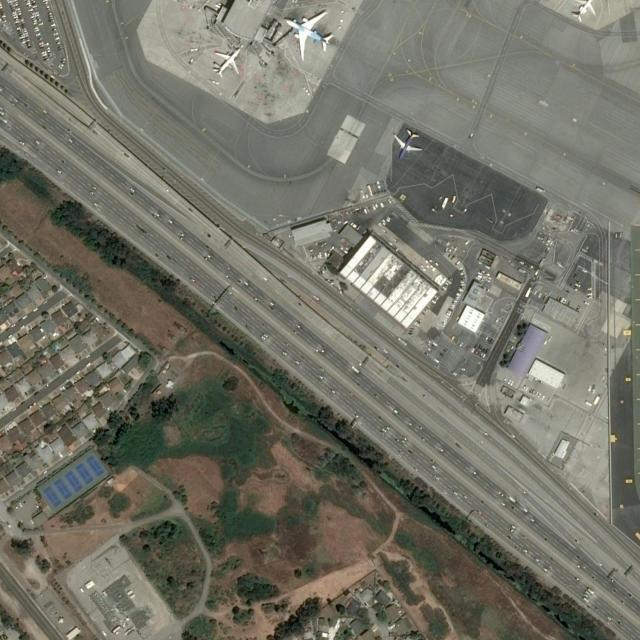Aircraft: (279, 8, 335, 59), (389, 126, 423, 161), (209, 44, 241, 78), (568, 0, 601, 22)
